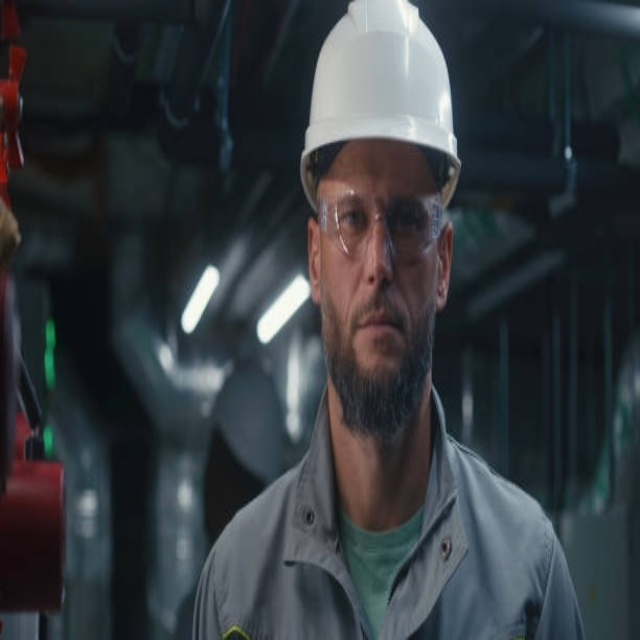Gafas: (318, 188, 446, 262)
Sin_mascara: (345, 283, 411, 390)
